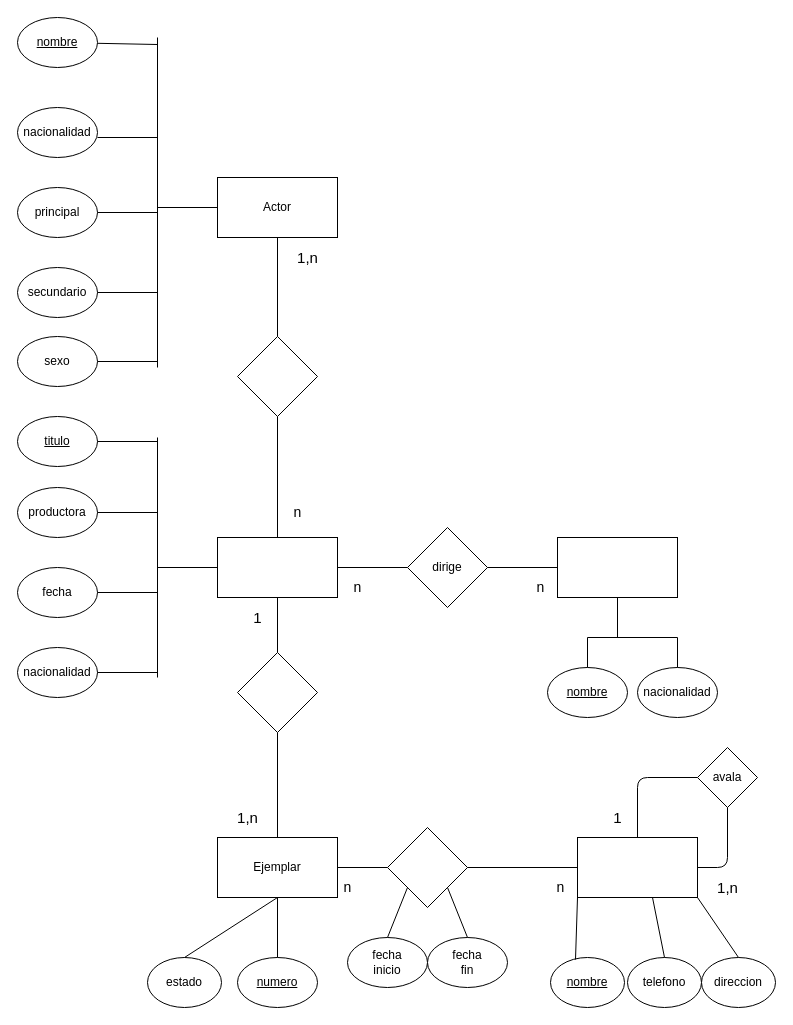
Some shapes in this 793 by 1025 pixel diagram are drawn without their labels. The centre of each missing label's shape, as x and y in pixels:
"alquila" goes at pixel 427 867.
"Director" goes at pixel 617 567.
"participa" goes at pixel 277 376.
"Pelicula" goes at pixel 277 567.
"Socio" goes at pixel 637 867.
"tiene" goes at pixel 277 692.
